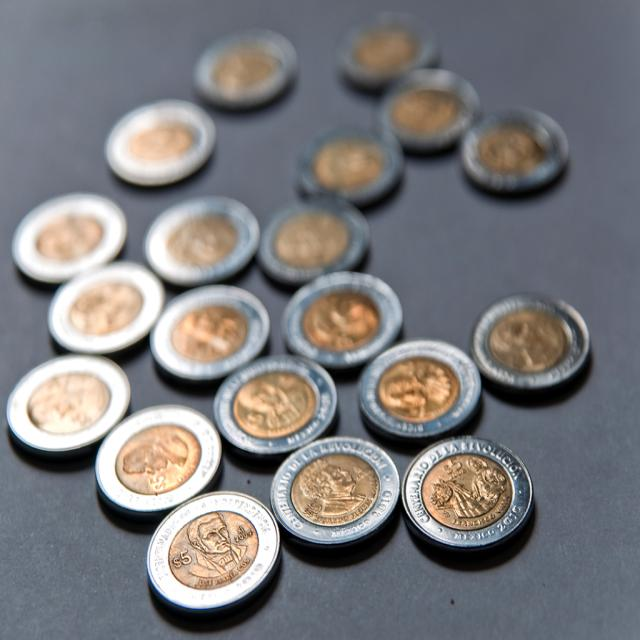Coin: (6, 22, 597, 632)
